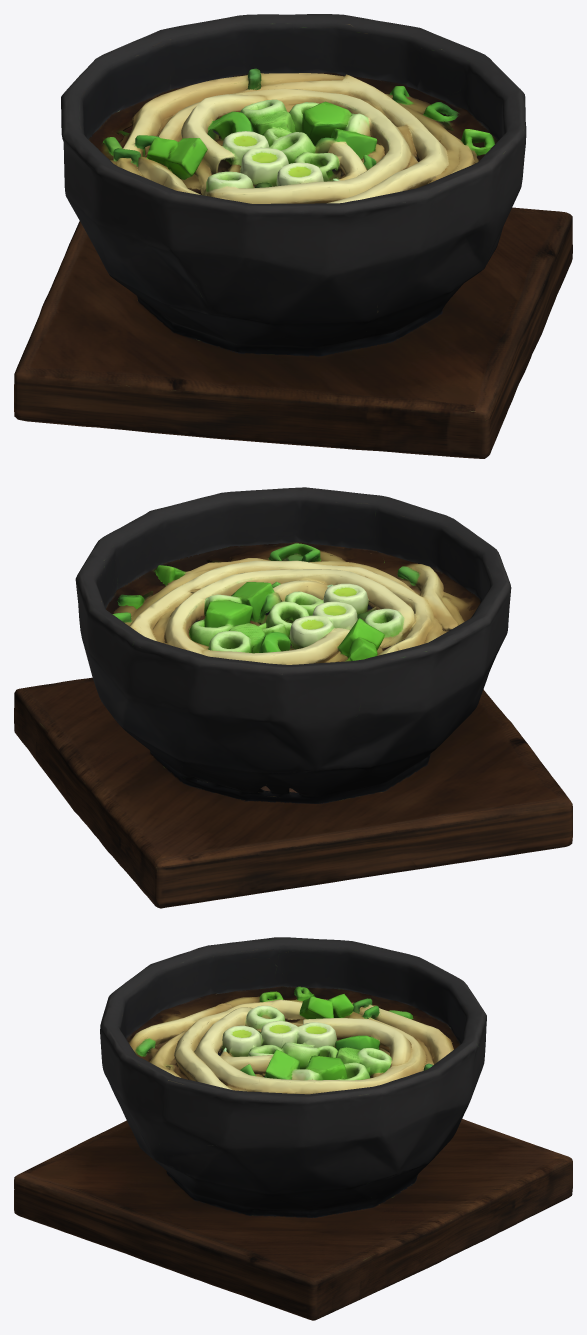
The model's file is udon.glb.
3 renders of one model, top to bottom at view 1: azimuth 30°, elevation 25°; view 2: azimuth 150°, elevation 25°; view 3: azimuth 270°, elevation 25°, orthographic. The views are drawn at different scales.
Visible parts, largest first — view 1: world; view 2: world; view 3: world.
Part boxes in pixels (<box>): world: <box>14,14,572,458</box>; world: <box>14,487,572,908</box>; world: <box>14,937,572,1320</box>.
Bounding box in the file's own units: 0.9836 × 0.376 × 1.
Materials: 1 (1 with a texture image).
